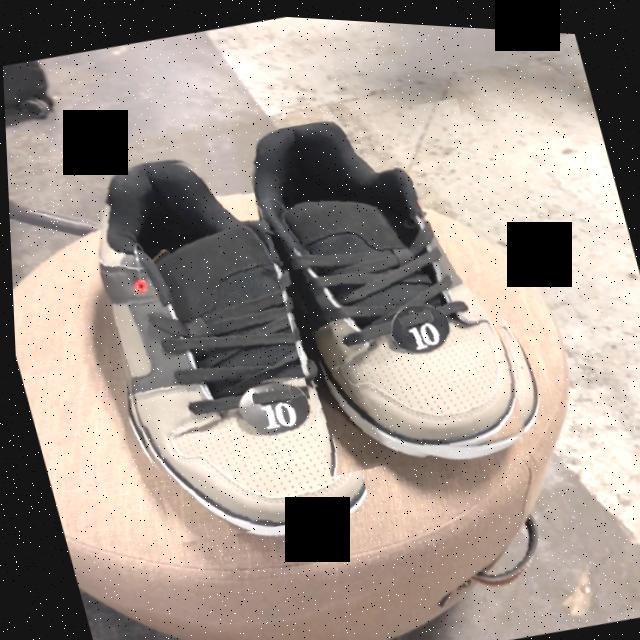shoe: (96, 162, 360, 525), (251, 118, 518, 450)
